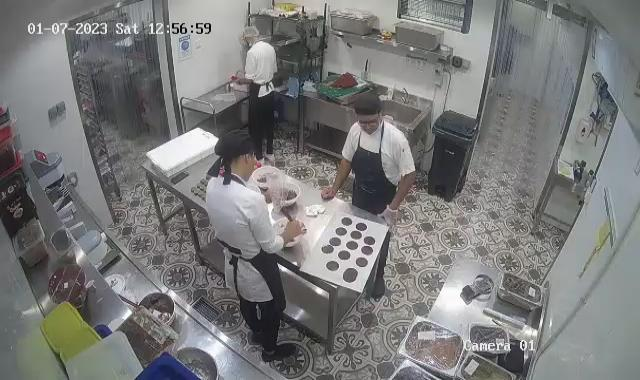hairnet: (241, 25, 261, 44)
no_hairnet: (212, 128, 256, 162), (353, 92, 385, 125)
